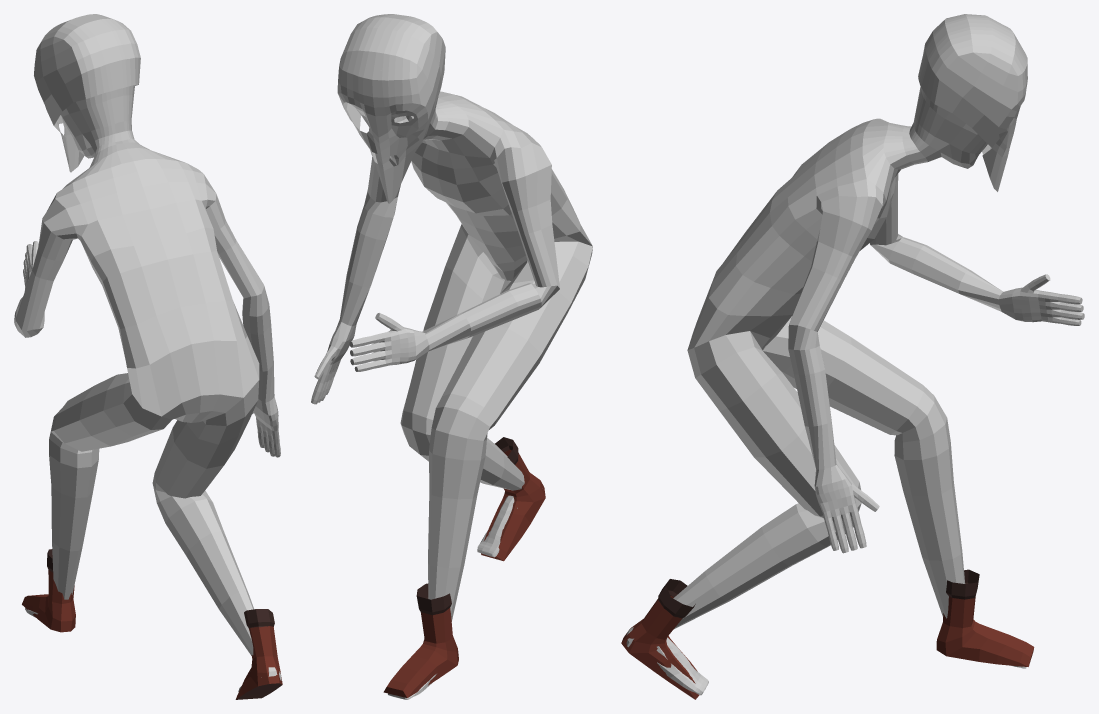
The model's file is saltoadelante_000143.obj.
The picture shows the model from 3 angles, left to right: view 1: azimuth 30°, elevation 25°; view 2: azimuth 150°, elevation 25°; view 3: azimuth 270°, elevation 25°; orthographic projection. The views are drawn at different scales.
Parts seen in each view (by area): view 1: Plane.002_Plane.001, Plane.003, Plane.004; view 2: Plane.002_Plane.001, Plane.004, Plane.003; view 3: Plane.002_Plane.001, Plane.004, Plane.003.
Boxes of the visible parts, x1=… form: Plane.002_Plane.001: x1=14, y1=14, x2=281, y2=691; Plane.003: x1=235, y1=609, x2=282, y2=699; Plane.004: x1=22, y1=549, x2=75, y2=632; Plane.002_Plane.001: x1=311, y1=14, x2=592, y2=699; Plane.004: x1=383, y1=583, x2=458, y2=697; Plane.003: x1=481, y1=437, x2=545, y2=561; Plane.002_Plane.001: x1=626, y1=14, x2=1084, y2=695; Plane.004: x1=936, y1=569, x2=1034, y2=666; Plane.003: x1=621, y1=579, x2=699, y2=699.
Bounding box in the file's own units: 2.36 × 5.63 × 3.6.
